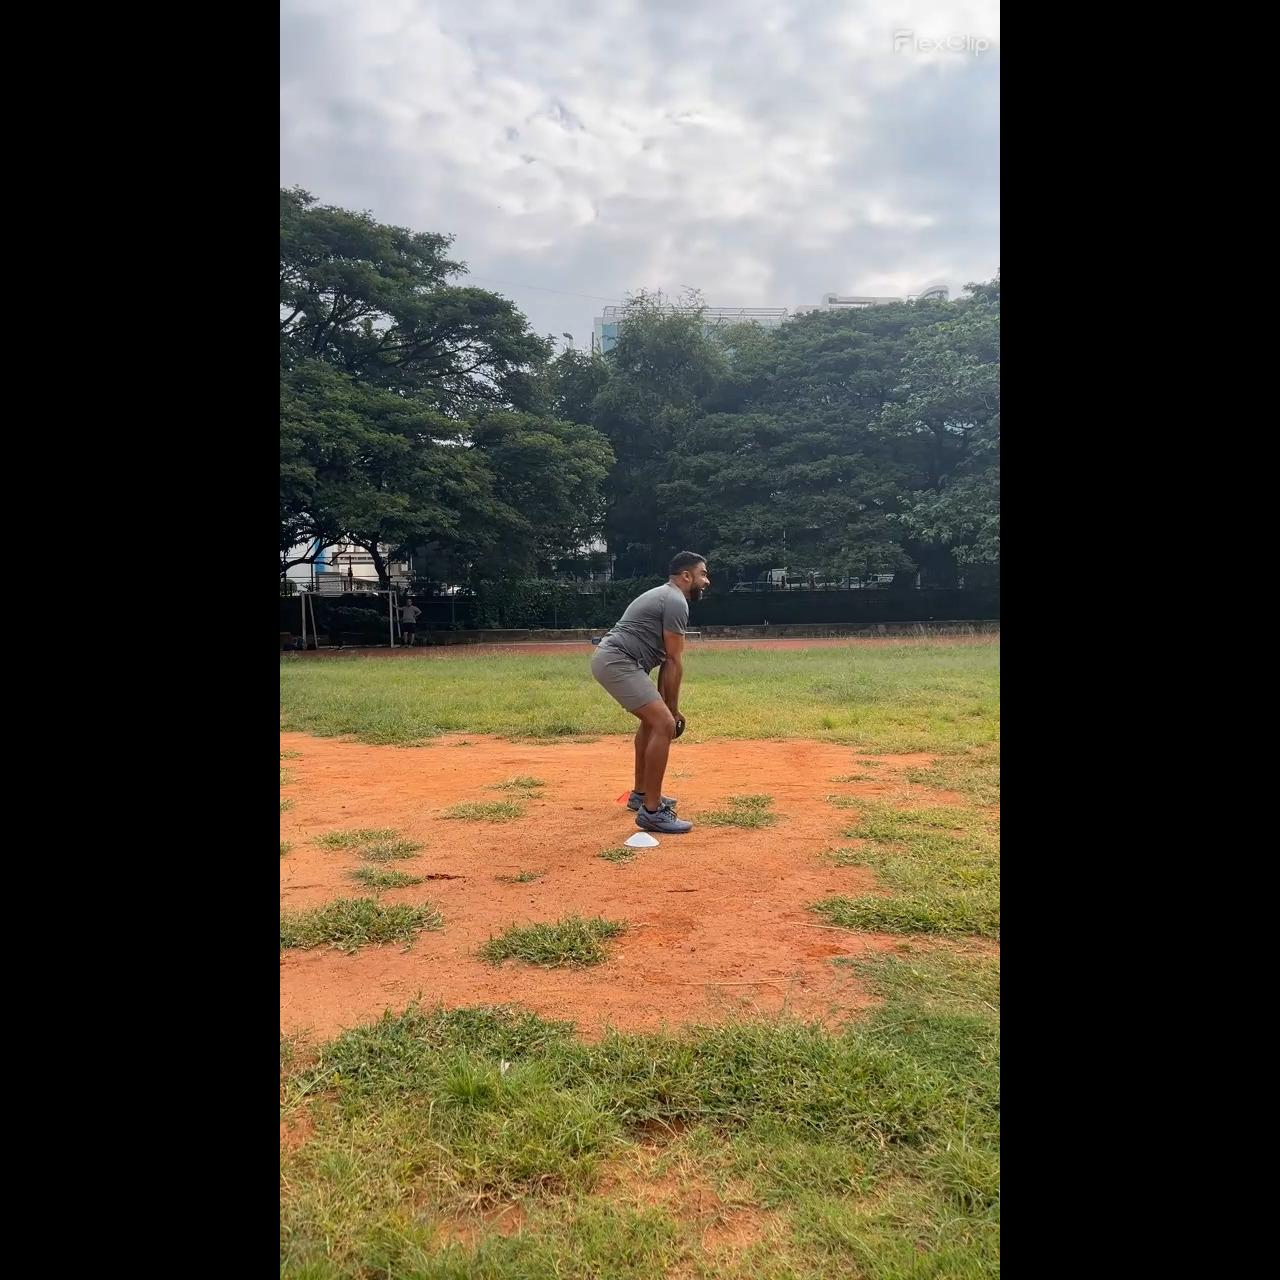Athelete: (586, 550, 709, 835)
